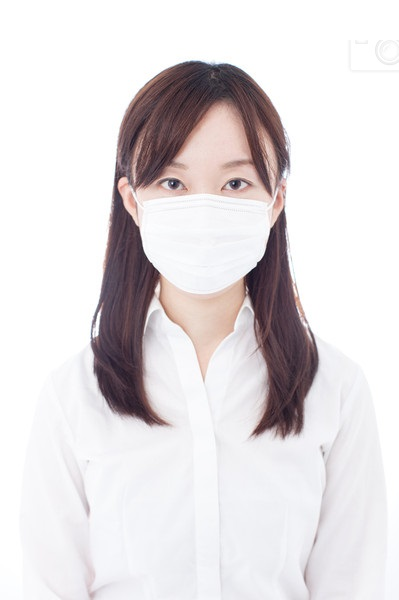face_mask: (137, 100, 272, 294)
